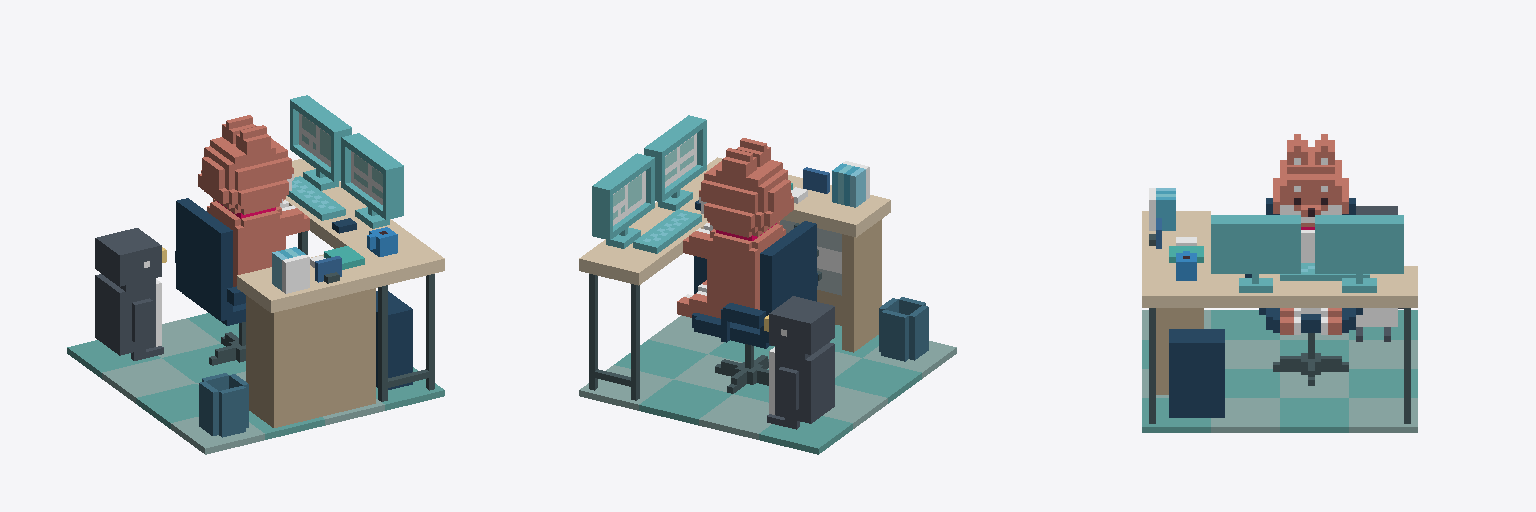
The picture shows the model from 3 angles: view 1: azimuth 30°, elevation 25°; view 2: azimuth 150°, elevation 25°; view 3: azimuth 270°, elevation 25°; orthographic projection.
Parts seen in each view (by area): view 1: table; view 2: table; view 3: table.
Part boxes in pixels (x1,y1,x2,y2): table: (67,95,444,454); table: (579,115,956,454); table: (1142,134,1417,432).
Size of the model in its own units: 17.98 by 17.08 by 17.98.
1 materials, 1 textured.